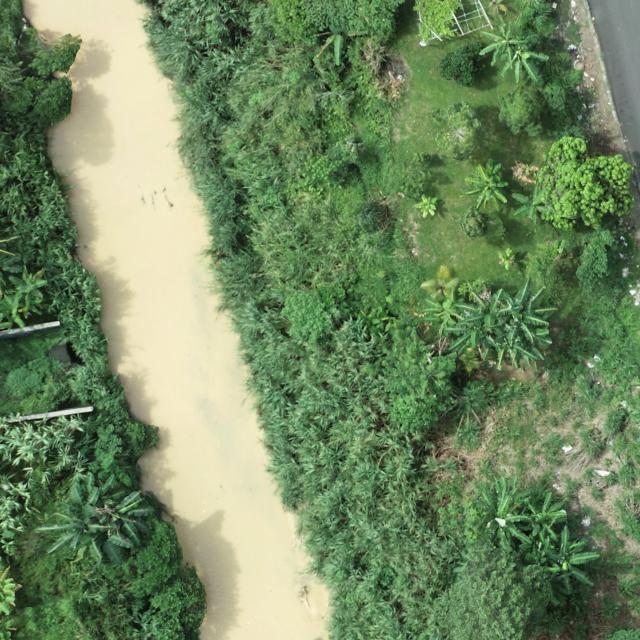Tree: (433, 542, 548, 640), (536, 135, 636, 230), (382, 326, 459, 438), (68, 471, 153, 562), (34, 487, 118, 554), (494, 279, 558, 346), (479, 476, 531, 554), (546, 524, 600, 594), (455, 288, 524, 336), (430, 100, 483, 161), (492, 322, 553, 370), (574, 228, 614, 295), (521, 490, 567, 545), (314, 20, 369, 66), (444, 318, 499, 362), (464, 158, 510, 210), (499, 39, 549, 86), (498, 87, 544, 137), (438, 41, 484, 88), (8, 264, 48, 317), (479, 24, 525, 68), (422, 298, 468, 338), (511, 185, 554, 224), (518, 537, 560, 576), (420, 264, 460, 302), (0, 293, 29, 344), (460, 206, 489, 241), (414, 194, 440, 219)
